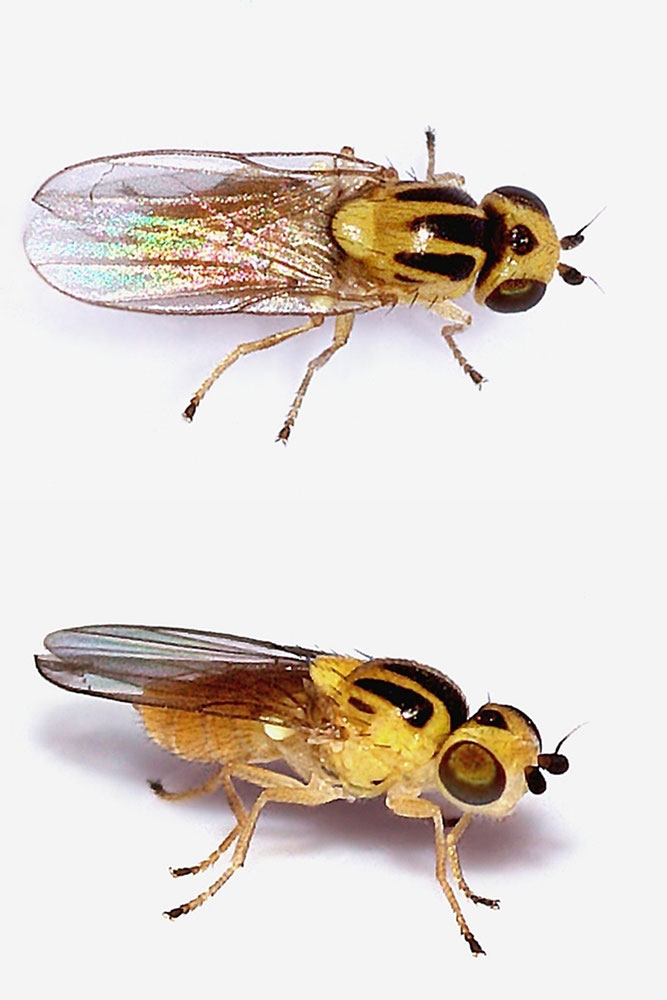Chloropidae: (30, 629, 579, 967), (30, 139, 612, 435)
